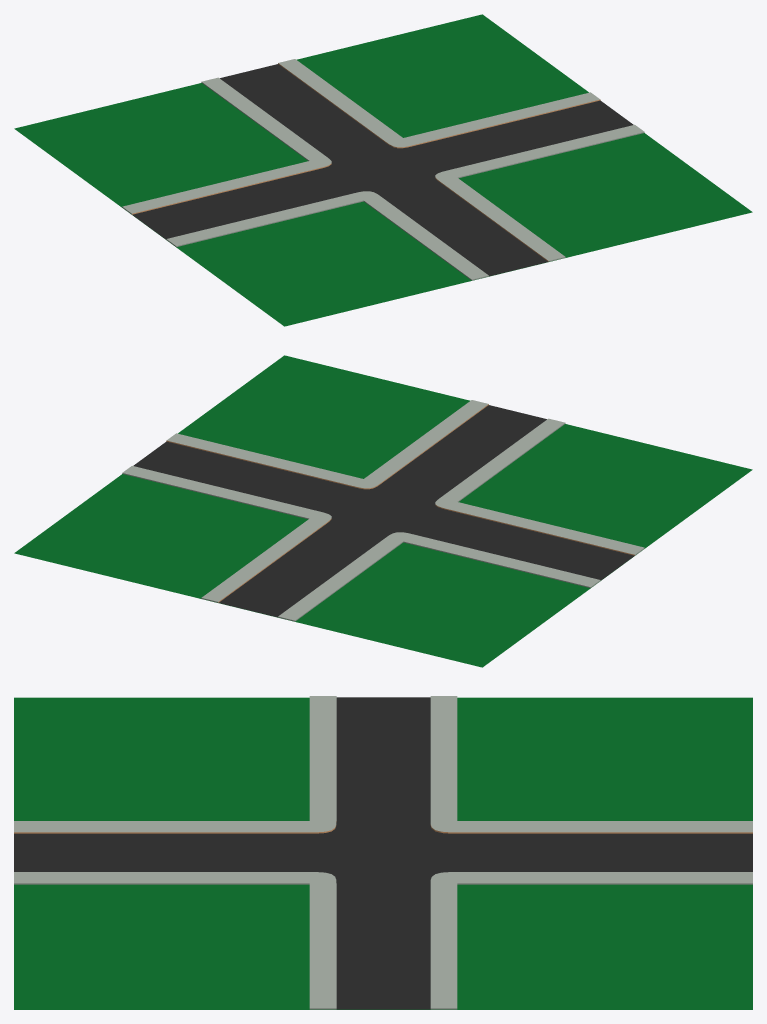
File: crossroad01.fbx
3 renders of one model, top to bottom at view 1: azimuth 30°, elevation 25°; view 2: azimuth 150°, elevation 25°; view 3: azimuth 270°, elevation 25°, orthographic. The views are drawn at different scales.
Parts seen in each view (by area): view 1: Plane; view 2: Plane; view 3: Plane.
Boxes of the visible parts, x1,y1,x2,y2 form: Plane: (14, 14, 752, 326); Plane: (14, 355, 752, 667); Plane: (14, 696, 752, 1009).
Size of the model in its own units: 10000 by 25 by 10000.
